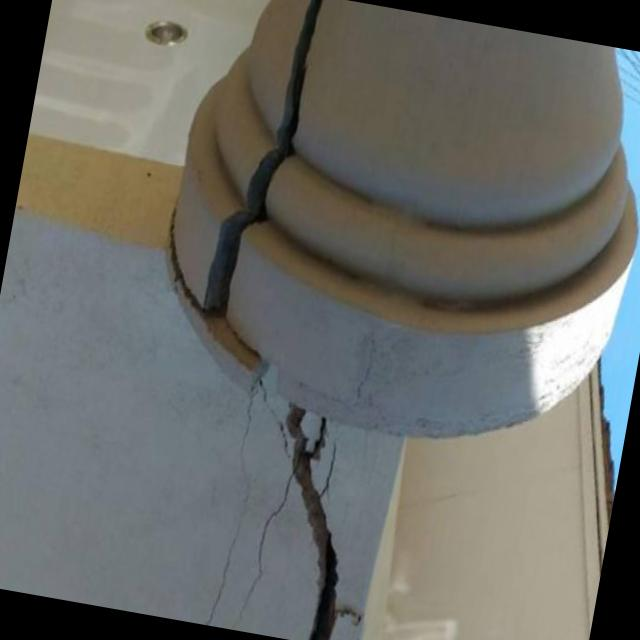crack: (169, 0, 321, 333), (285, 410, 366, 640)
